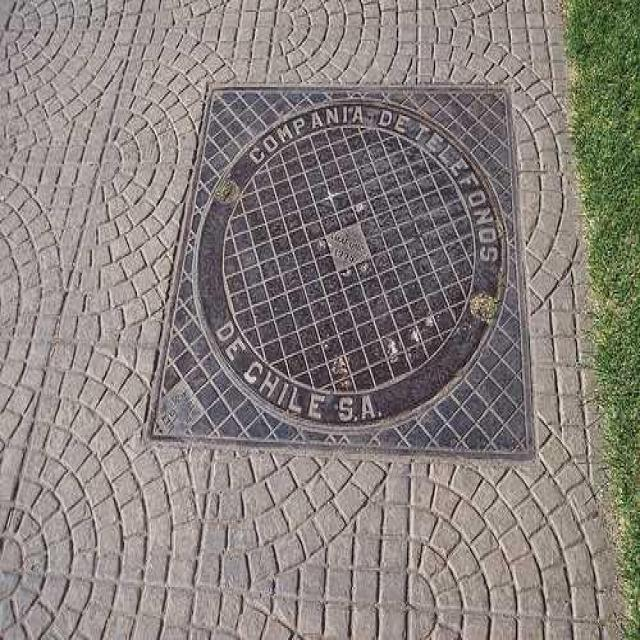manhole: (152, 87, 534, 457)
